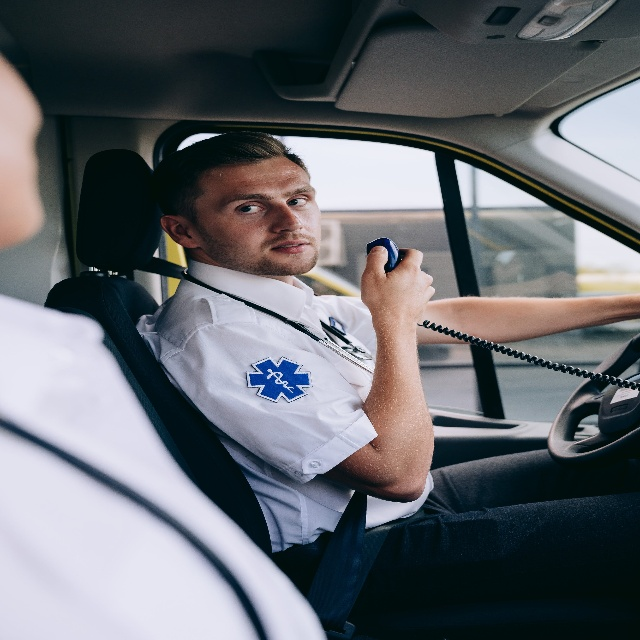Sin_guantes: (360, 242, 436, 330)
